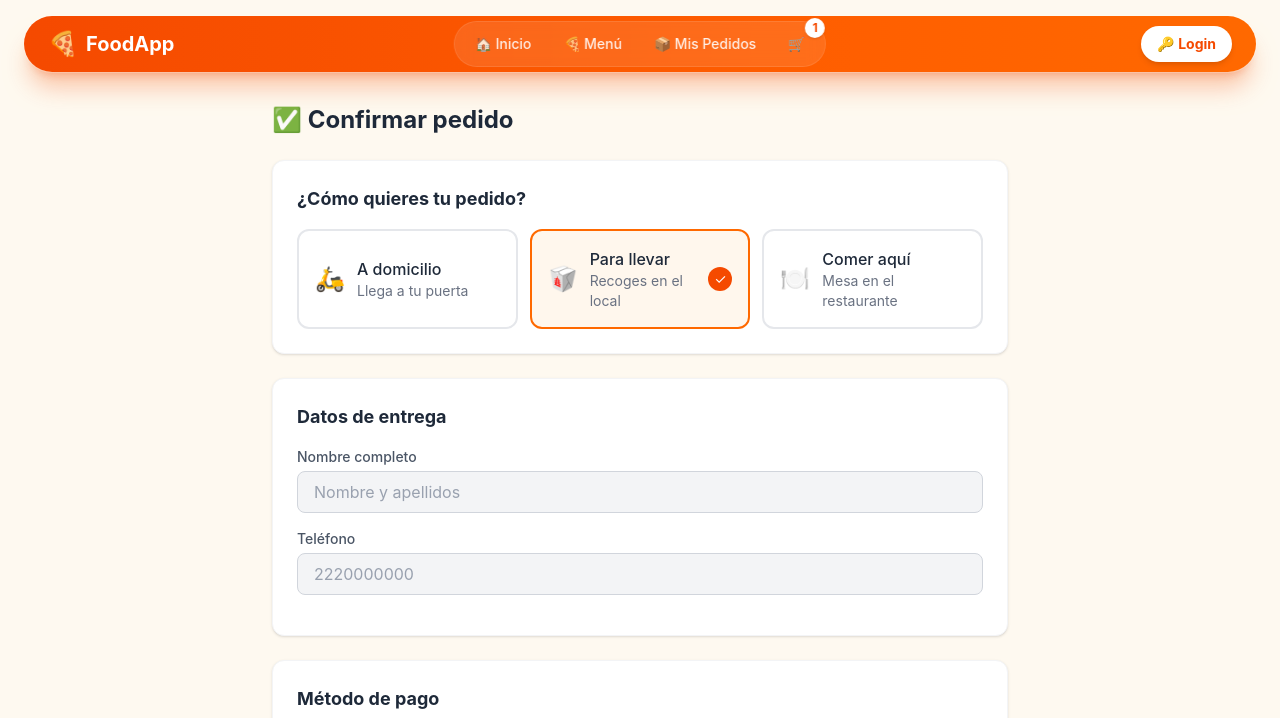
Scenario: CheckoutPage - modo de pedido › si elige A domicilio aparece el campo Dirección
Click the text "A domicilio": (399, 269) [357,259,441,279]
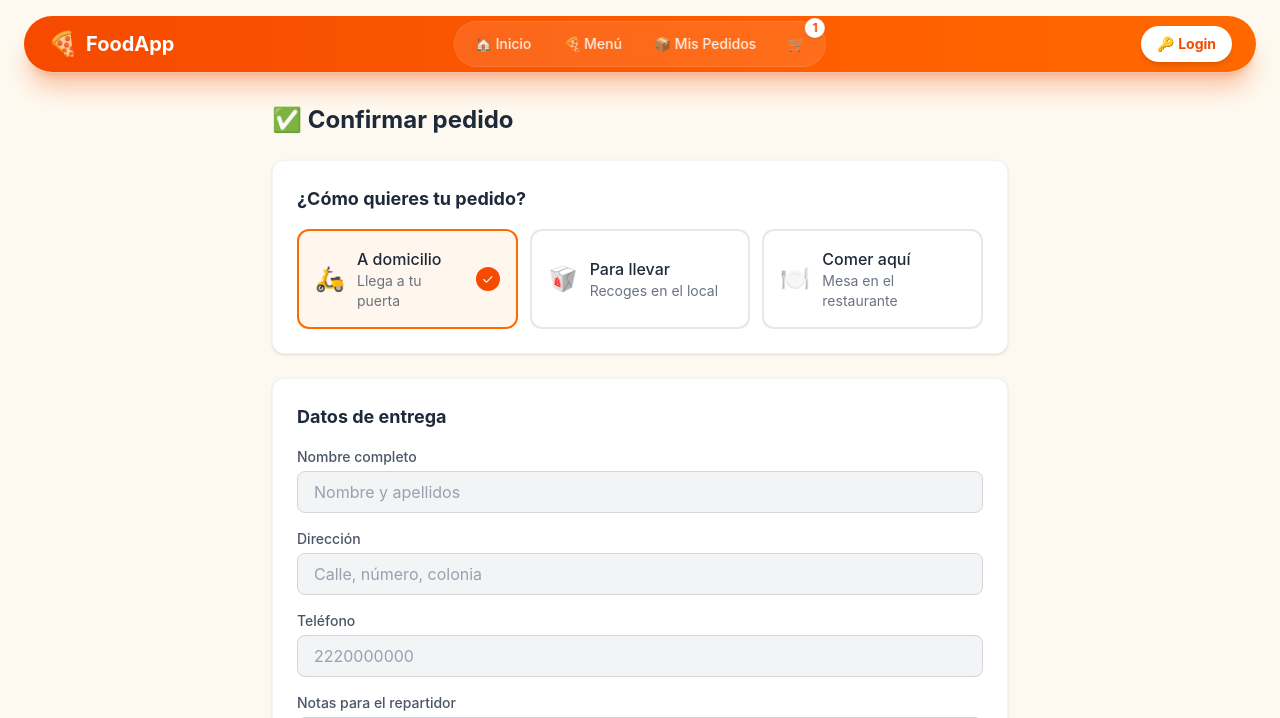
Check: the field labelled "Dirección" is shown, box [297,553,983,595]
Click the text "Comer aquí": (866, 259) [822,249,910,269]
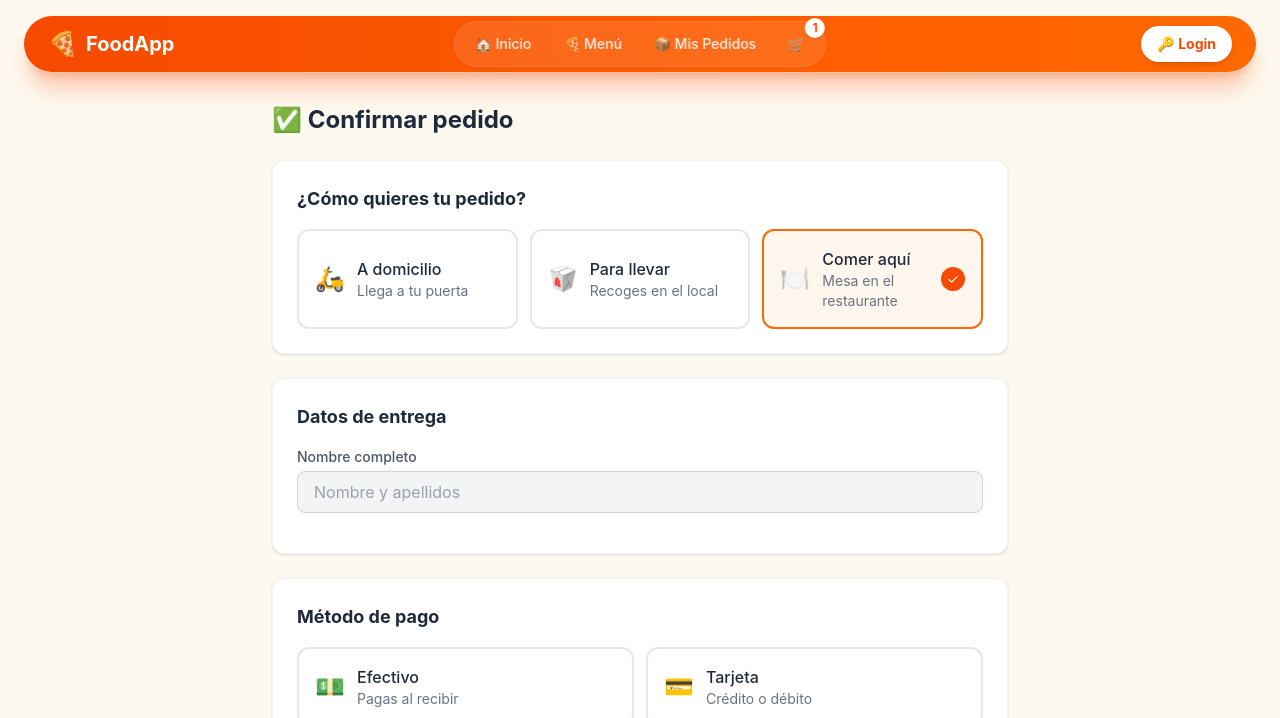
Check: the label labelled "Dirección" is gone
